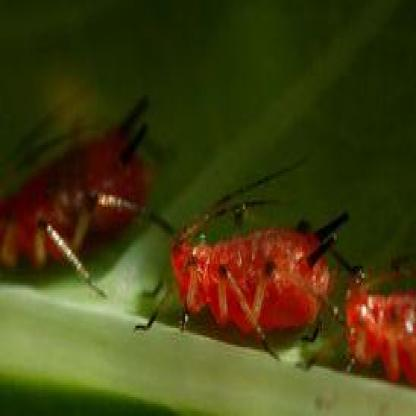aphid: (155, 166, 354, 351), (0, 100, 150, 292), (337, 241, 416, 384)
